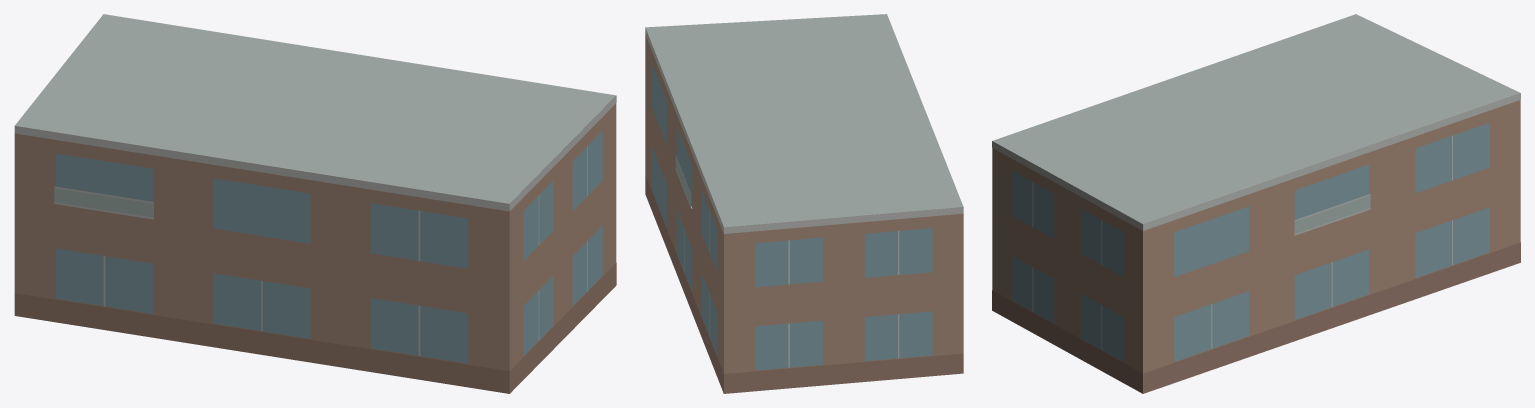
File: survey-upis-32672667.glb
3 renders of one model, left to right at view 1: azimuth 30°, elevation 25°; view 2: azimuth 150°, elevation 25°; view 3: azimuth 270°, elevation 25°, orthographic. The views are drawn at different scales.
Visible parts, largest first — view 1: survey-upis-32672667.tmp; view 2: survey-upis-32672667.tmp; view 3: survey-upis-32672667.tmp.
Part boxes in pixels (left/top/right/bottom): survey-upis-32672667.tmp: left=14, top=14, right=616, bottom=393; survey-upis-32672667.tmp: left=645, top=14, right=963, bottom=393; survey-upis-32672667.tmp: left=992, top=14, right=1520, bottom=393.
Bounding box in the file's own units: 16.22 × 6.1 × 17.24.
